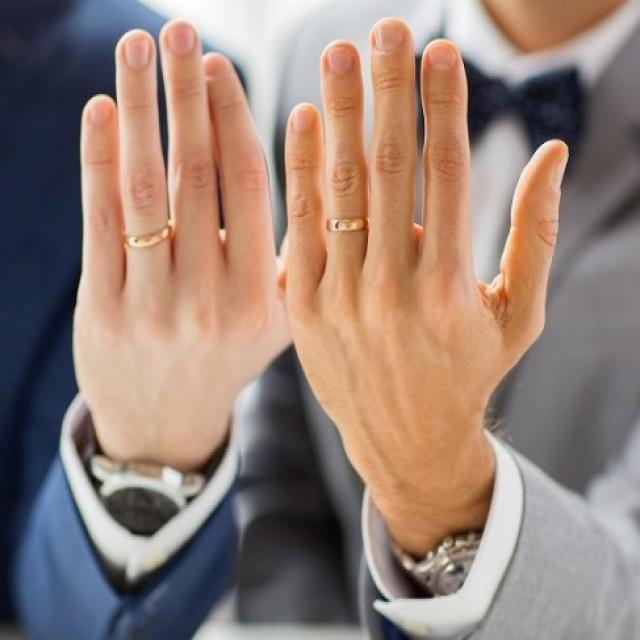Watch: (74, 432, 206, 536), (390, 528, 488, 600)
